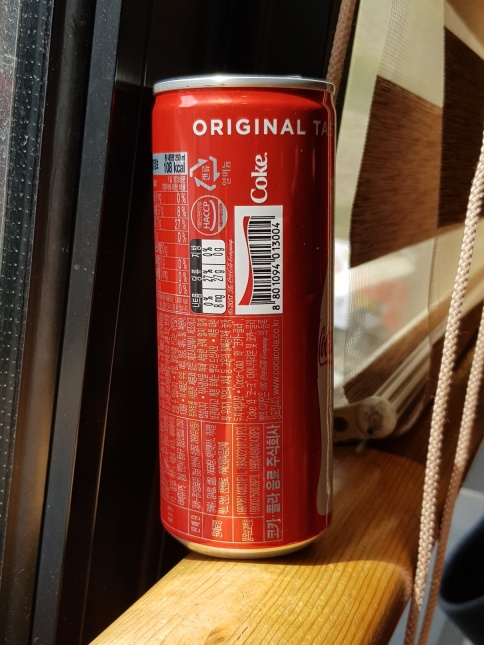Can: (145, 69, 339, 564)
